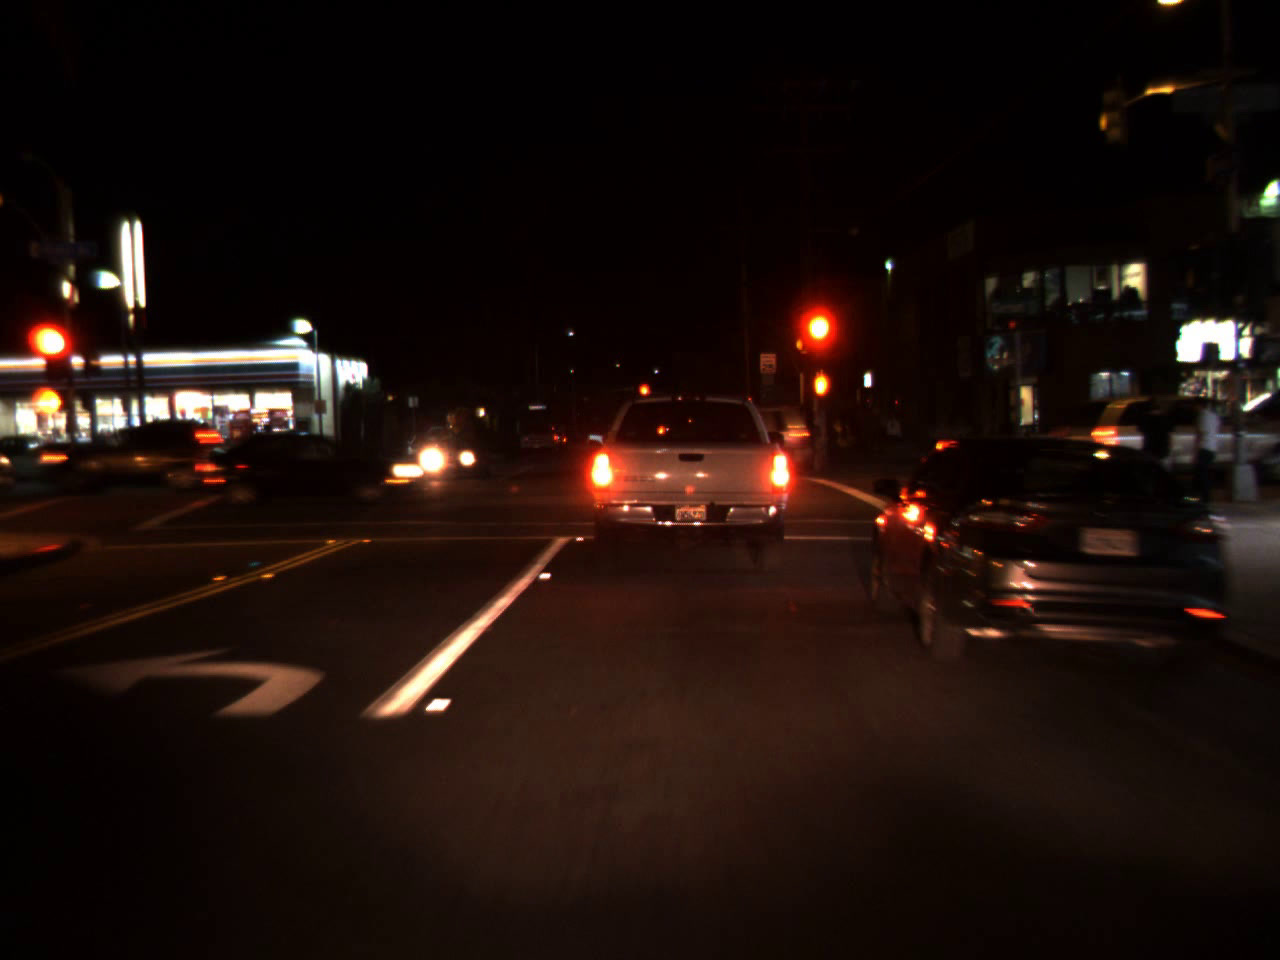stop: (30, 321, 73, 391), (801, 312, 833, 371), (637, 381, 652, 410)
